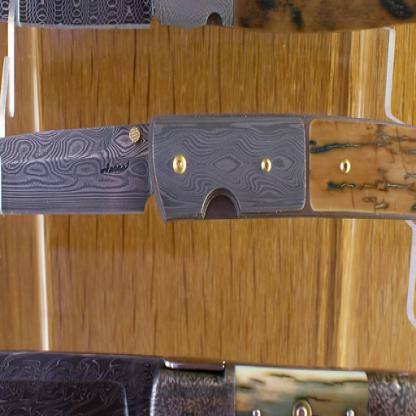knife: (0, 110, 415, 233), (0, 354, 415, 415), (0, 0, 416, 36)
